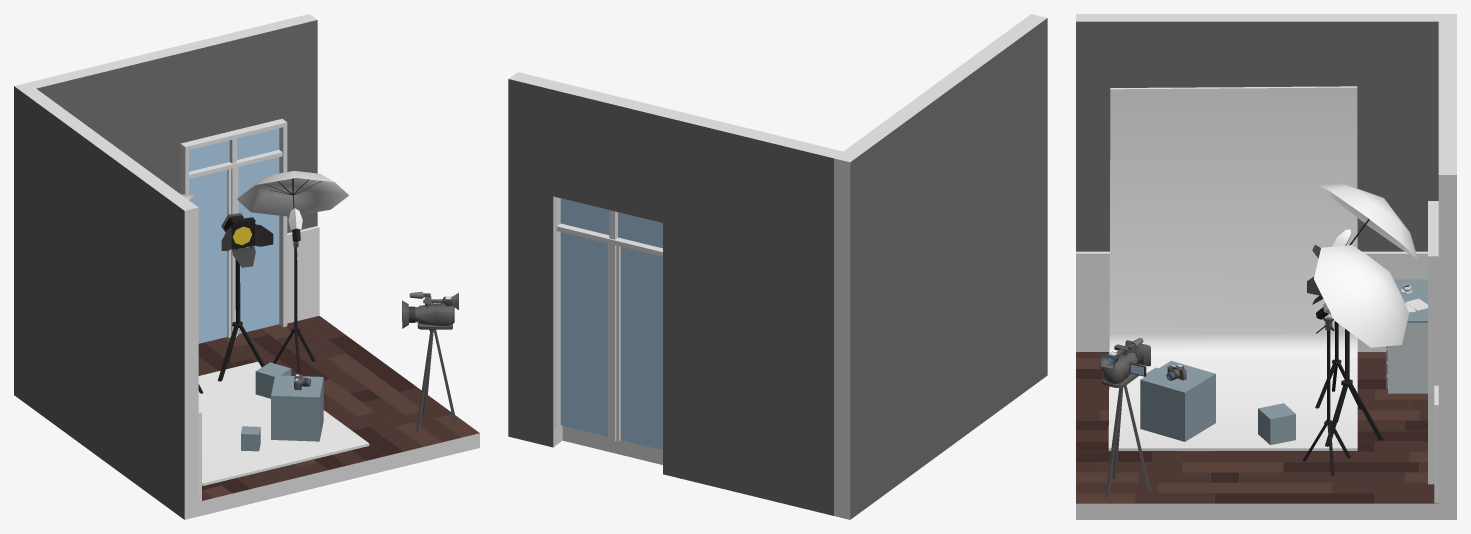
Rendered from room_17.glb.
3 renders of one model, left to right at view 1: azimuth 30°, elevation 25°; view 2: azimuth 150°, elevation 25°; view 3: azimuth 270°, elevation 25°, orthographic. The views are drawn at different scales.
Visible parts, largest first — view 1: Walls_046.003, floor_016.004, window_009.003, Walls_046.004, Walls_046.005, entertainment_032.001, Walls_046.002, Walls_011.009, entertainment_021.002, Walls_111.007, Walls_003.039, entertainment_007.001 (+2 smaller); view 2: Walls_046.003, Walls_046.004, window_009.003, Walls_046.002, Walls_046.005, Walls_011.009; view 3: entertainment_032.001, Walls_046.003, floor_016.004, Walls_011.009, entertainment_021.002, Walls_046.002, Walls_003.038, Walls_111.007, entertainment_021.001, shelf_032.001, entertainment_022.001, window_009.003 (+5 smaller).
Boxes of the visible parts, x1=… form: Walls_046.003: x1=14, y1=82, x2=198, y2=519; floor_016.004: x1=198, y1=316, x2=479, y2=500; window_009.003: x1=180, y1=118, x2=287, y2=343; Walls_046.004: x1=28, y1=46, x2=183, y2=193; Walls_046.005: x1=176, y1=23, x2=278, y2=142; entertainment_032.001: x1=198, y1=361, x2=369, y2=485; Walls_046.002: x1=271, y1=14, x2=317, y2=233; Walls_011.009: x1=198, y1=320, x2=479, y2=516; entertainment_021.002: x1=237, y1=171, x2=348, y2=374; Walls_111.007: x1=271, y1=375, x2=323, y2=441; Walls_003.039: x1=287, y1=226, x2=319, y2=323; entertainment_007.001: x1=217, y1=213, x2=273, y2=381; Walls_046.003: x1=834, y1=14, x2=1047, y2=519; Walls_046.004: x1=663, y1=110, x2=842, y2=515; window_009.003: x1=555, y1=197, x2=662, y2=449; Walls_046.002: x1=508, y1=72, x2=562, y2=447; Walls_046.005: x1=553, y1=83, x2=671, y2=222; Walls_011.009: x1=562, y1=426, x2=662, y2=464; entertainment_032.001: x1=1108, y1=86, x2=1357, y2=450; Walls_046.003: x1=1076, y1=14, x2=1456, y2=251; floor_016.004: x1=1076, y1=352, x2=1434, y2=503; Walls_011.009: x1=1076, y1=352, x2=1438, y2=519; entertainment_021.002: x1=1302, y1=245, x2=1409, y2=475; Walls_046.002: x1=1438, y1=154, x2=1456, y2=519; Walls_003.038: x1=1076, y1=251, x2=1427, y2=351; Walls_111.007: x1=1140, y1=360, x2=1215, y2=441; entertainment_021.001: x1=1315, y1=183, x2=1417, y2=408; shelf_032.001: x1=1386, y1=279, x2=1427, y2=393; entertainment_022.001: x1=1099, y1=338, x2=1151, y2=498; window_009.003: x1=1428, y1=201, x2=1438, y2=484.
Bounding box in the file's own units: 4.2 × 4.2 × 4.2.
Materials: 1 (1 with a texture image).
